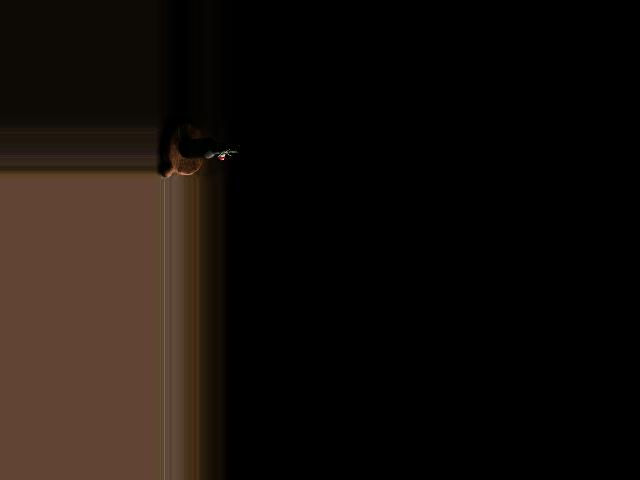beer: (181, 139, 240, 158)
